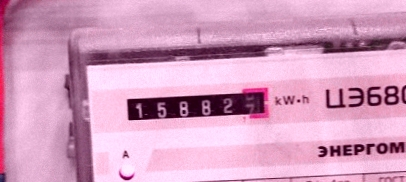1: (134, 101, 144, 120)
2: (222, 96, 233, 114)
5: (155, 101, 167, 118)
7: (244, 102, 255, 115)
8: (178, 99, 189, 117), (201, 99, 211, 115)
screen: (119, 84, 275, 126)
